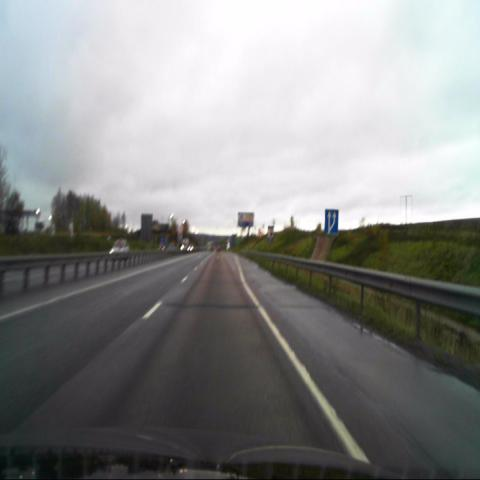5_15_3: (325, 208, 338, 233)
